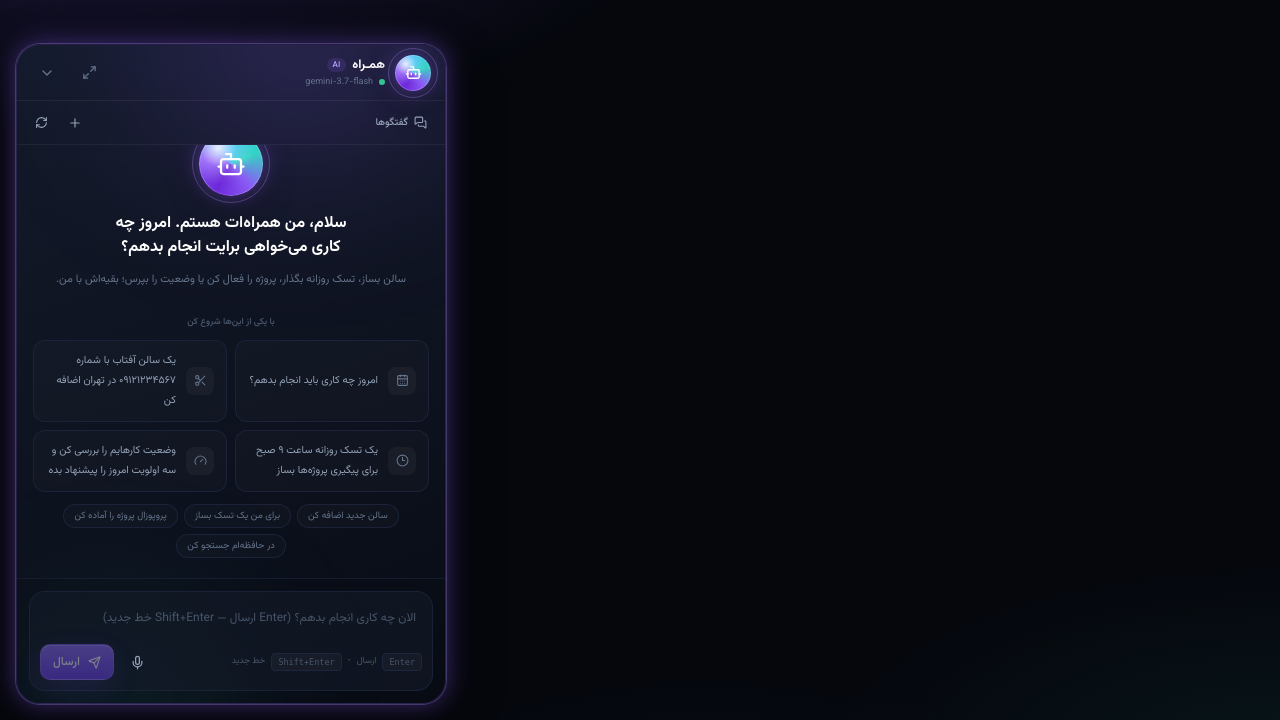
Test case: stop button aborts generation, keeps draft and marks stopped message
(page scrolled)
Type "یک گزارش کامل از امروز بساز" into the text box named "پیام به همراه" at x=231, y=618, box [30,592,432,644]
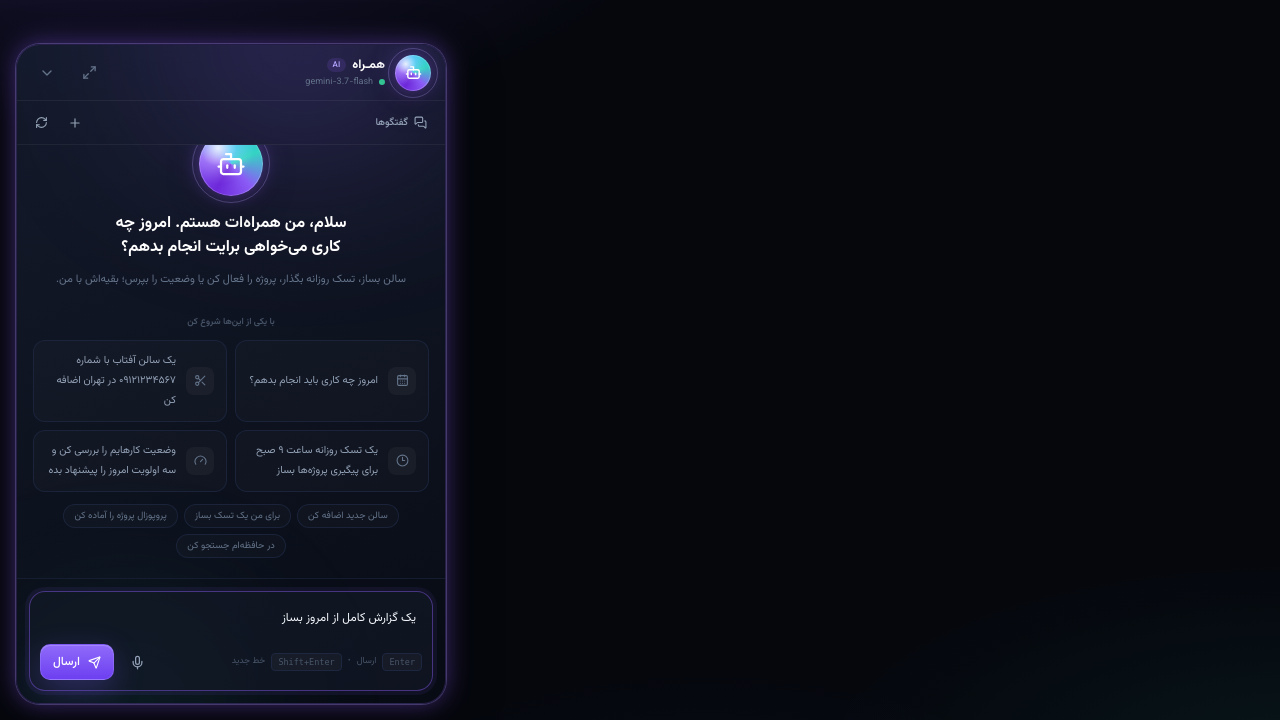
Press Enter
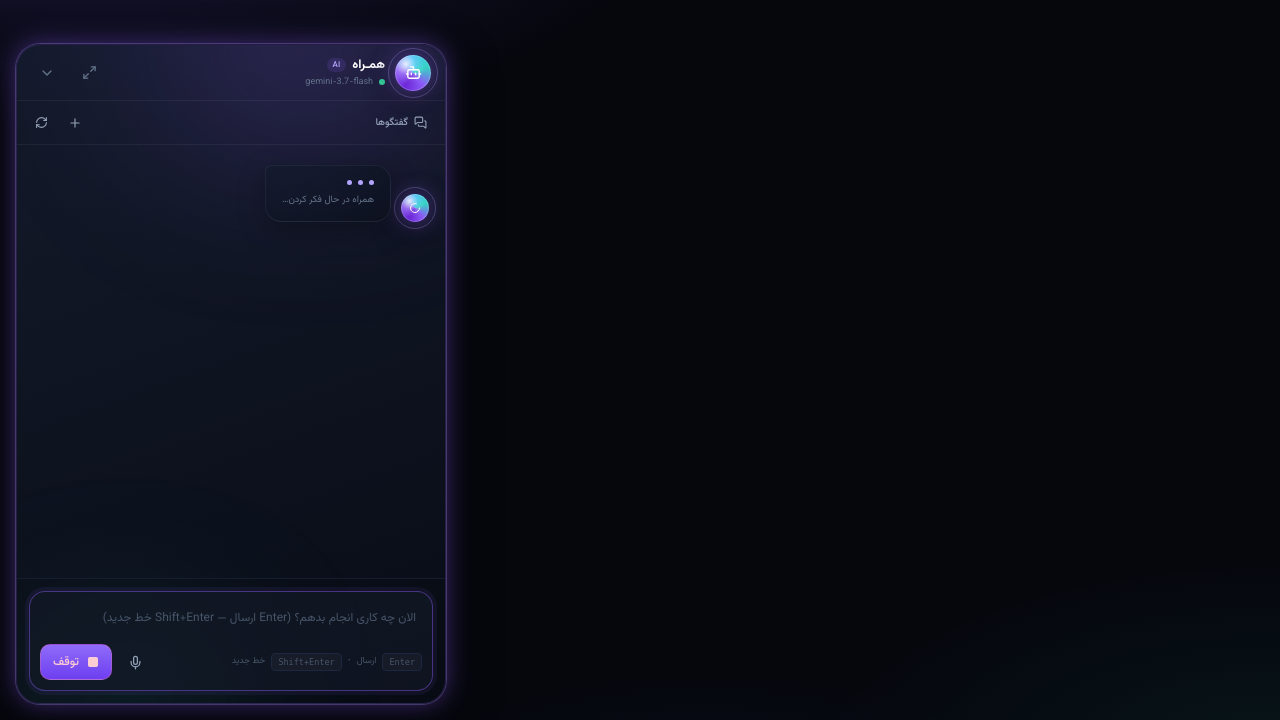
Expected: the element with test id "typing-indicator" is shown, [265,165,429,222]
Click the button "توقف" at x=76, y=662, box [40,644,112,680]
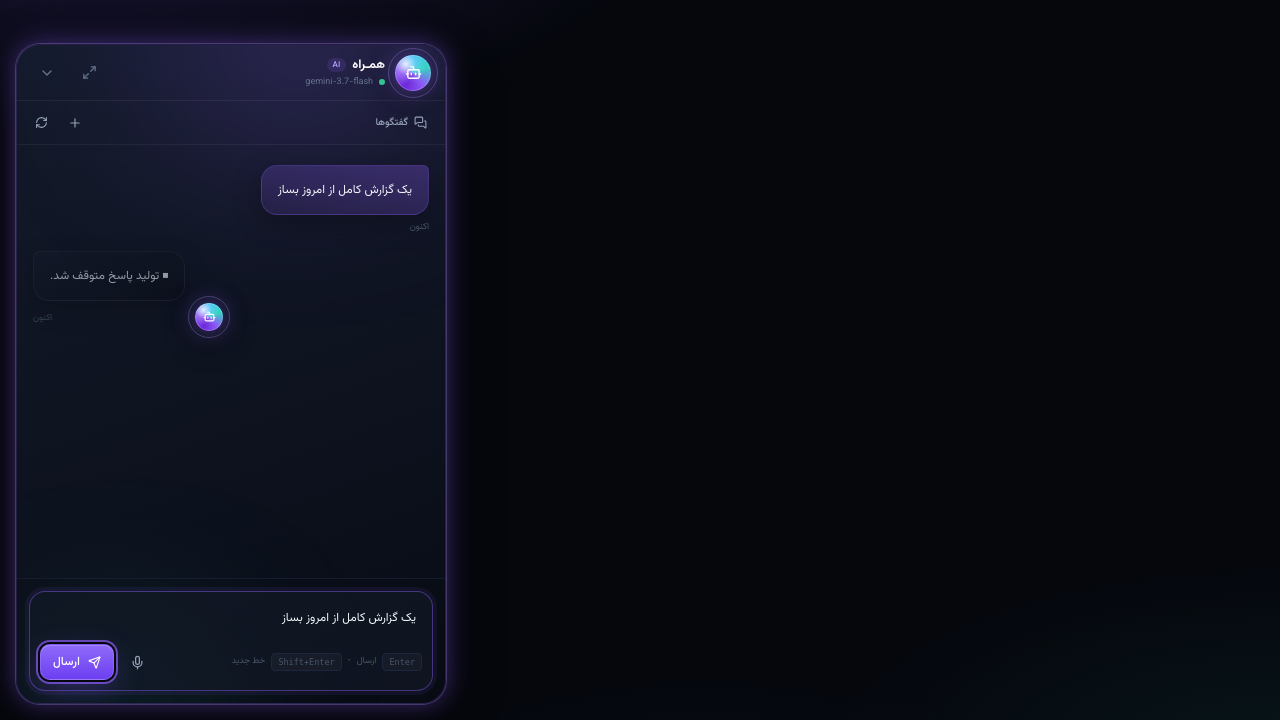
Expected: the text "⏹ تولید پاسخ متوقف شد." is shown, [50,264,168,288]
Expected: the element with test id "message-user" is shown, [261,165,429,234]
